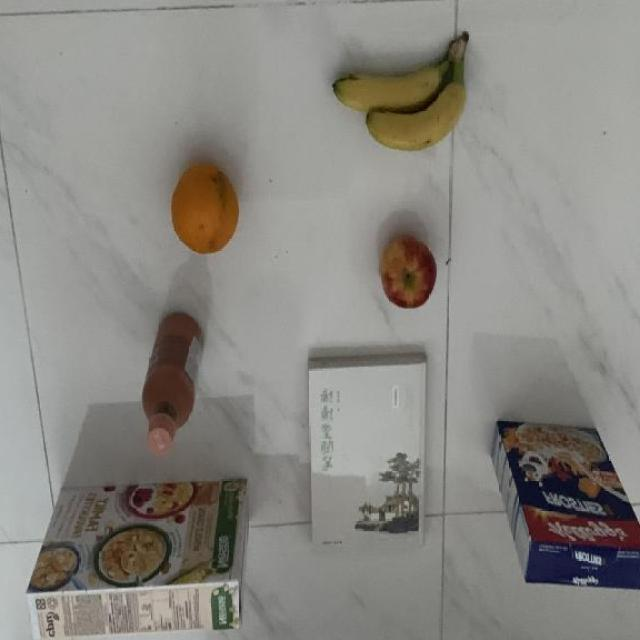Apple: (379, 228, 442, 311)
Banana: (328, 29, 474, 157)
Book: (306, 350, 431, 554)
Cerealbox: (24, 477, 251, 640), (489, 420, 640, 594)
Orange: (165, 160, 244, 264)
